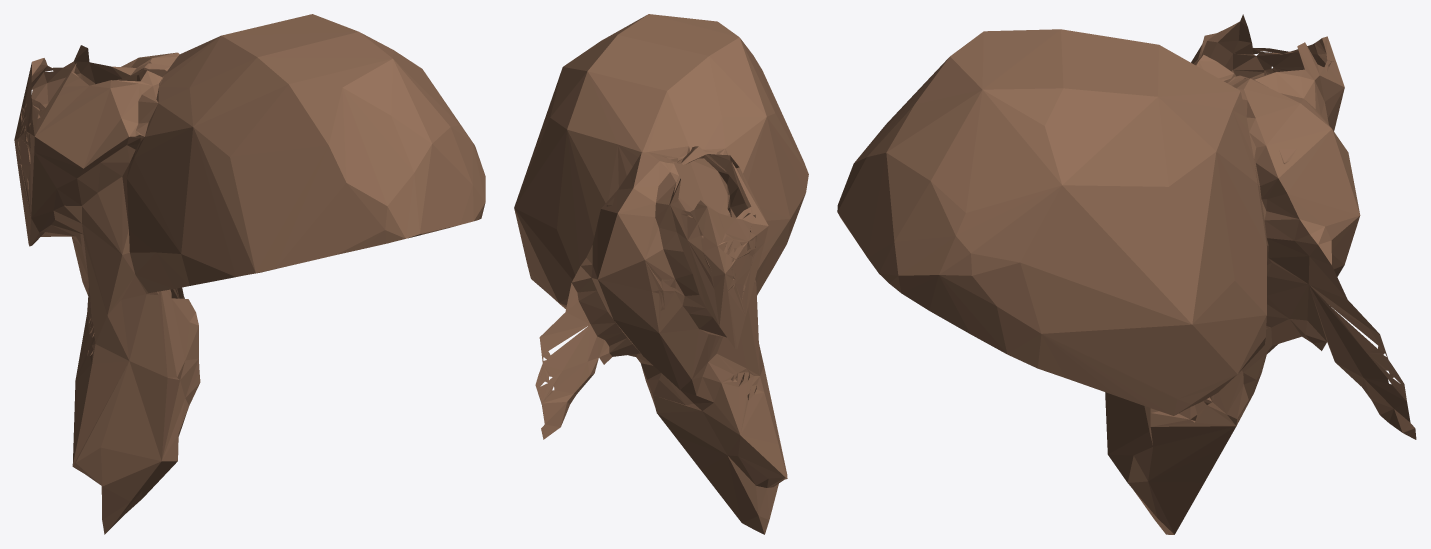
Rendered from Hair_tied_LOD2.glb.
3 views of the same model, side by side, from view 1: azimuth 30°, elevation 25°; view 2: azimuth 150°, elevation 25°; view 3: azimuth 270°, elevation 25° (orthographic). The views are drawn at different scales.
Parts seen in each view (by area): view 1: Hair_tied_LOD2; view 2: Hair_tied_LOD2; view 3: Hair_tied_LOD2.
Boxes of the visible parts, x1,y1,x2,y2 form: Hair_tied_LOD2: [14, 14, 485, 534]; Hair_tied_LOD2: [514, 14, 808, 534]; Hair_tied_LOD2: [837, 14, 1416, 534].
Bounding box in the file's own units: 0.2593 × 0.3627 × 0.3356.
